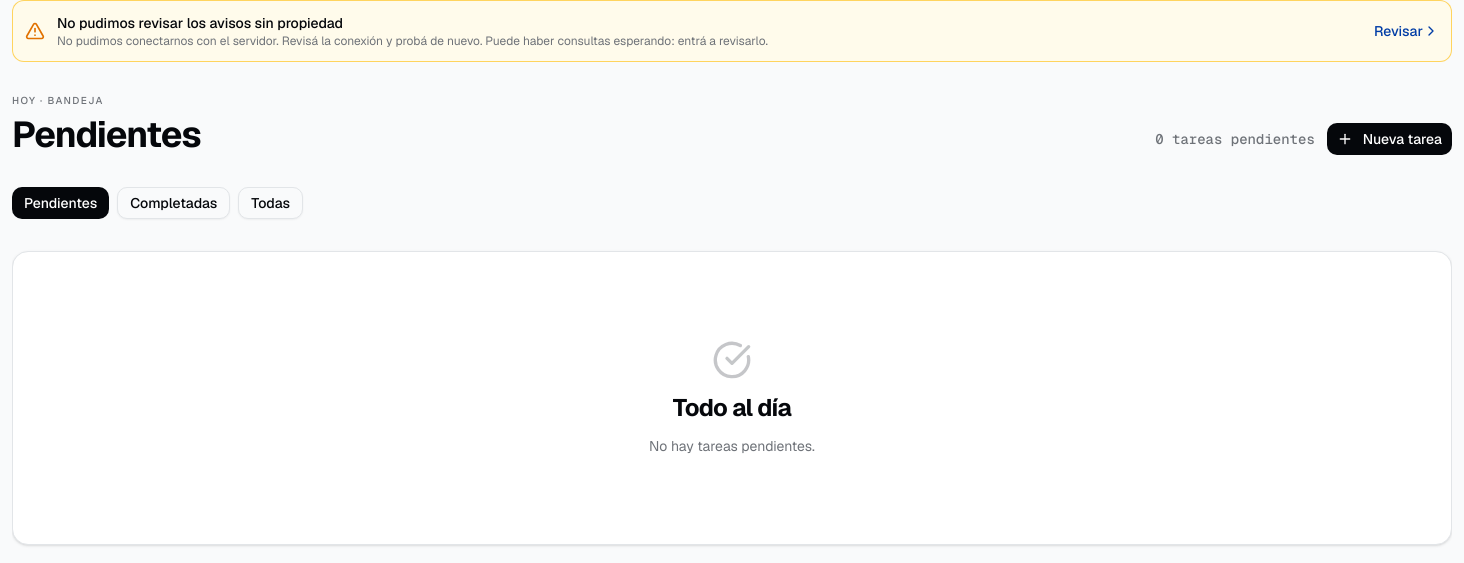
Test: /tasks — D12: "Todas" muestra de verdad todas › las tareas cerradas se distinguen de las vivas y no ofrecen completar/descartar
Click the button "Todas" at {"x": 271, "y": 203}, box [238,187,303,219]
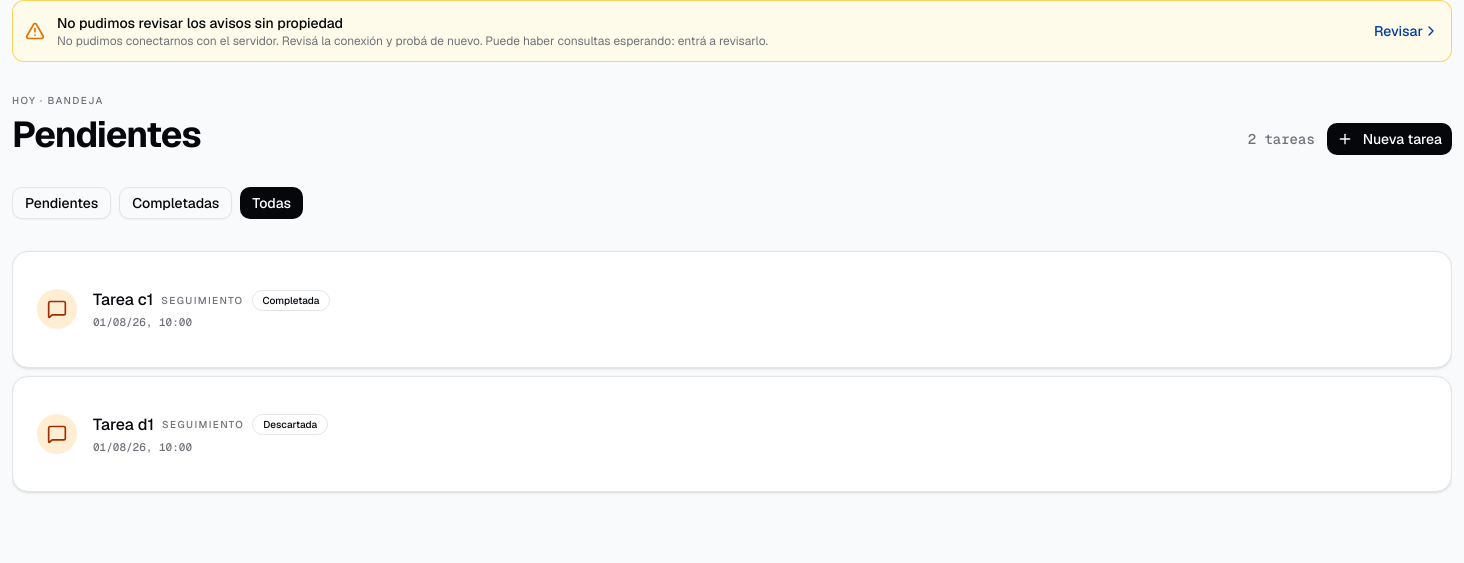
Now the text "Tarea c1" is shown, box [93,288,153,312]
Now the text "Completada" is shown, box [252,290,330,310]
Now the text "Descartada" is shown, box [252,414,328,435]
